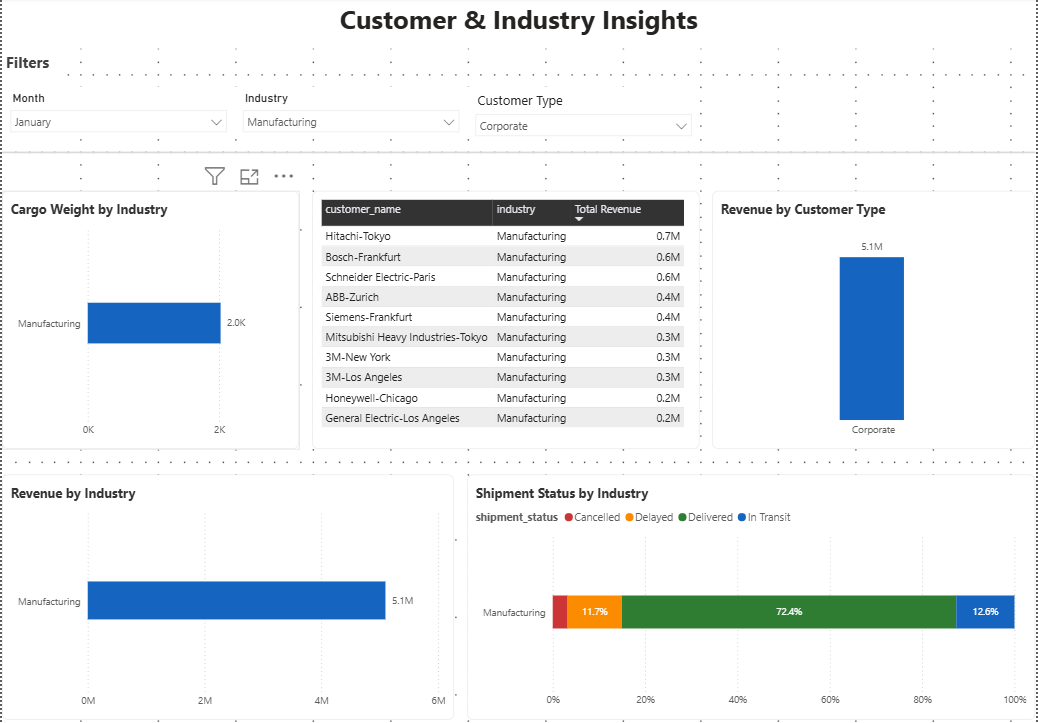

This screenshot's page, from the dashboard's own definition file:
{"tool":"powerbi","page":{"name":"Business Insight","canvas":[1280,900],"ordinal":1},"visuals":[{"type":"slicer","fields":{"Values":["warehouse dim_customer.industry"]},"box":[288,112,288,64],"z":0},{"type":"slicer","fields":{"Values":["warehouse dim_customer.customer_type"]},"box":[576,112,288,64],"z":1000},{"type":"slicer","fields":{"Values":["warehouse dim_date.month_name"]},"box":[0,112,288,64],"z":2000},{"type":"clusteredBarChart","title":"Revenue by Industry","fields":{"Category":["warehouse dim_customer.industry"],"Y":["warehouse fact_shipments.Total Revenue"]},"box":[0,592,560,304],"z":3000},{"type":"columnChart","title":"Revenue by Customer Type","fields":{"Category":["warehouse dim_customer.customer_type"],"Y":["warehouse fact_shipments.Total Revenue"]},"box":[880,240,400,320],"z":4000},{"type":"tableEx","fields":{"Values":["warehouse dim_customer.customer_name","warehouse dim_customer.industry","warehouse fact_shipments.Total Revenue"]},"box":[384,240,480,320],"z":5000},{"type":"hundredPercentStackedBarChart","title":"Shipment Status by Industry","fields":{"Category":["warehouse dim_customer.industry"],"Y":["warehouse fact_shipments.Total Shipment"],"Series":["warehouse fact_shipments.shipment_status"]},"box":[576,592,704,304],"z":6000},{"type":"clusteredBarChart","title":"Cargo Weight by Industry","fields":{"Category":["warehouse dim_customer.industry"],"Y":["warehouse fact_shipments.Total Weight (Tonnes)"]},"box":[0,240,368,320],"z":7000},{"type":"textbox","box":[0,0,1280,64],"z":8000},{"type":"textbox","box":[0,64,80,48],"z":9000},{"type":"shape","box":[0,176,1280,32],"z":10000}]}

Visuals, with their boxes in screenshot pixels (x1, y1, x2, y2), scaled from the page's 1280x900 canvas onto the 1038x723 screenshot:
slicer - warehouse dim_customer.industry: bbox(234, 90, 467, 141)
slicer - warehouse dim_customer.customer_type: bbox(467, 90, 701, 141)
slicer - warehouse dim_date.month_name: bbox(0, 90, 234, 141)
"Revenue by Industry" clusteredBarChart: bbox(0, 476, 454, 720)
"Revenue by Customer Type" columnChart: bbox(714, 193, 1037, 450)
tableEx - warehouse dim_customer.customer_name x warehouse dim_customer.industry: bbox(311, 193, 701, 450)
"Shipment Status by Industry" hundredPercentStackedBarChart: bbox(467, 476, 1037, 720)
"Cargo Weight by Industry" clusteredBarChart: bbox(0, 193, 298, 450)
textbox: bbox(0, 0, 1037, 51)
textbox: bbox(0, 51, 65, 90)
shape: bbox(0, 141, 1037, 167)
